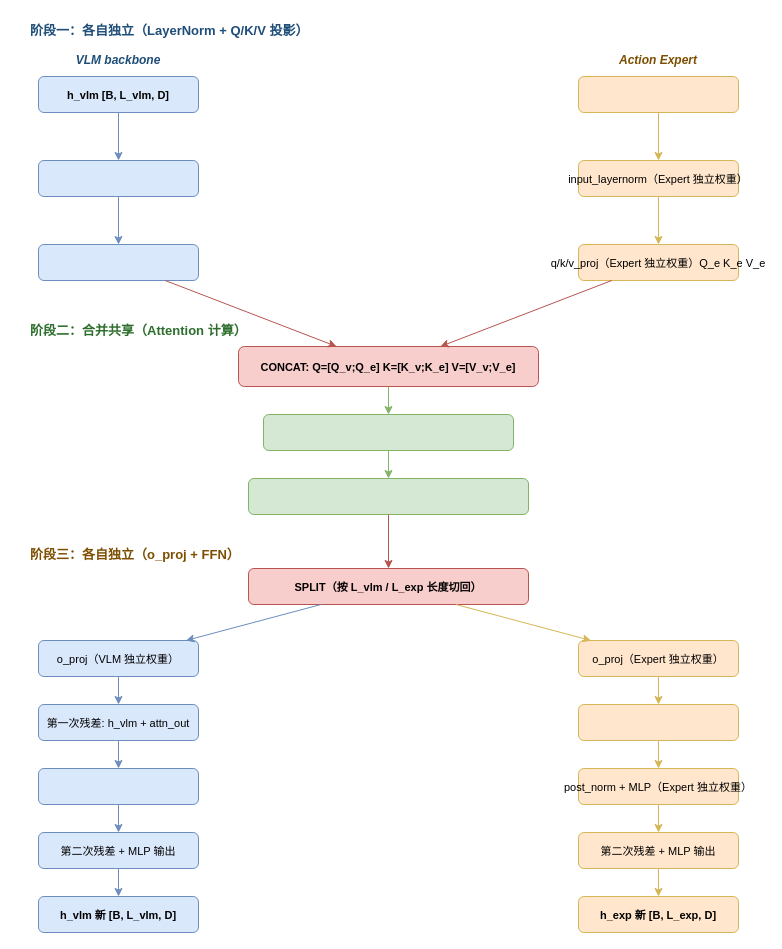
The diagram is 782 pixels wide and 949 high, and some of its shapes have lost their labels. The shapes that lost their labels are listed below. From the top down, each one's box as (x1, y1, x2, y2) in pixels, then its label:
(578, 76, 738, 112): h_exp [B, L_exp, D]
(38, 160, 198, 196): input_layernorm（VLM 独立权重）
(38, 244, 198, 280): q/k/v_proj（VLM 独立权重）Q_v K_v V_v
(262, 414, 514, 450): RoPE 位置编码（两专家共享）
(248, 478, 528, 514): Attention(Q, K, V) + att_2d_masks
(578, 704, 738, 740): 第一次残差: h_exp + attn_out
(38, 768, 198, 804): post_norm + MLP（VLM 独立权重）
